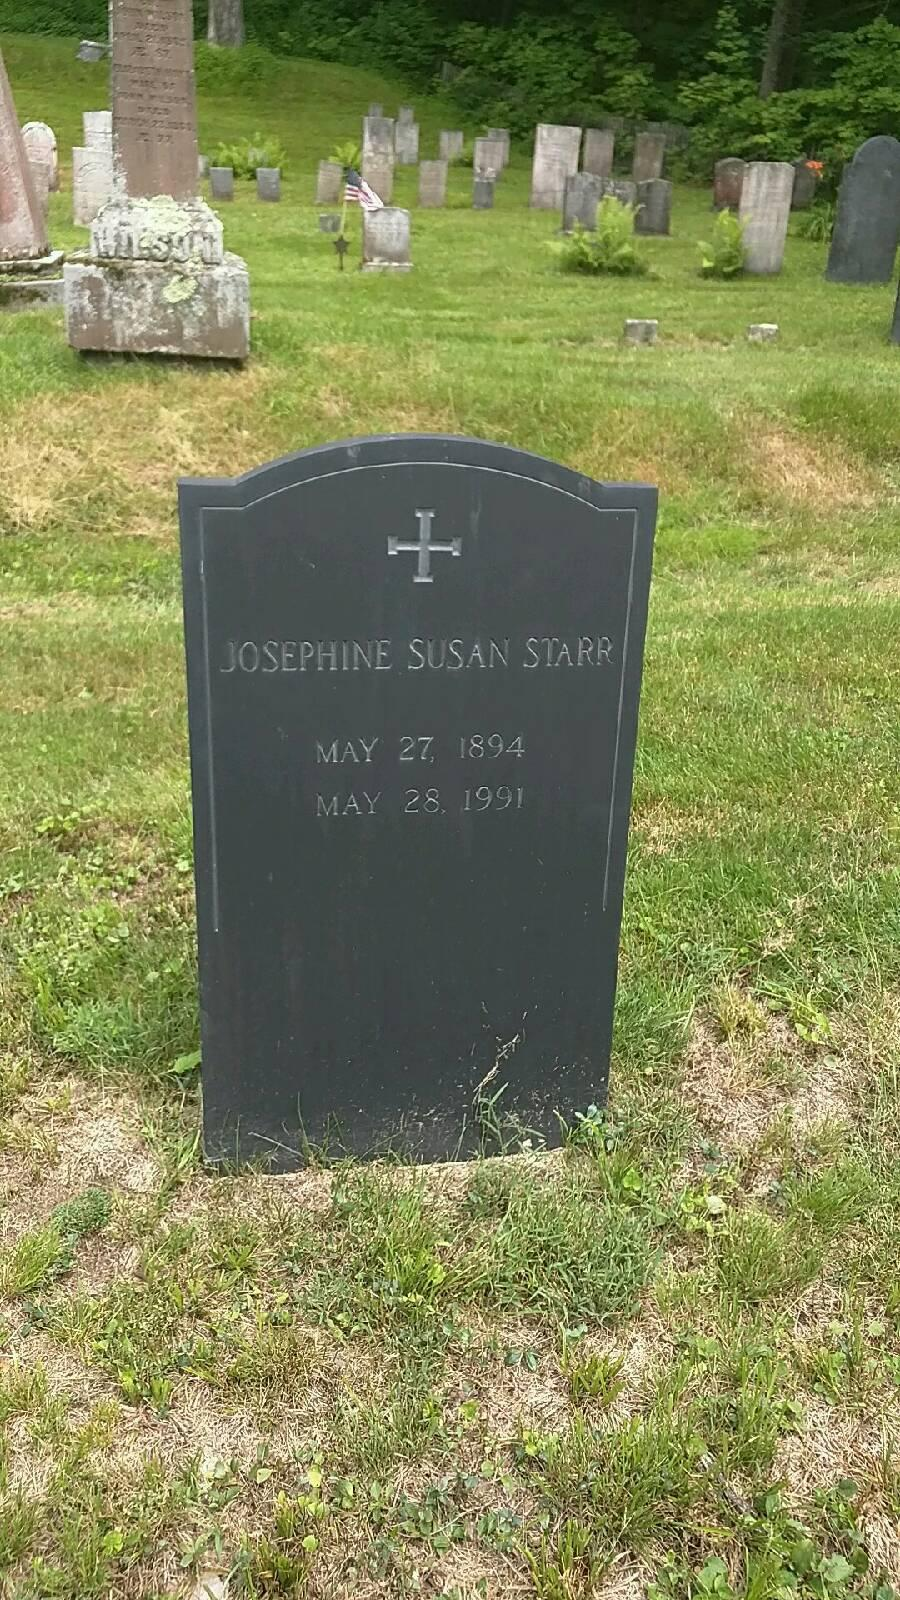upright: (167, 425, 653, 1180)
